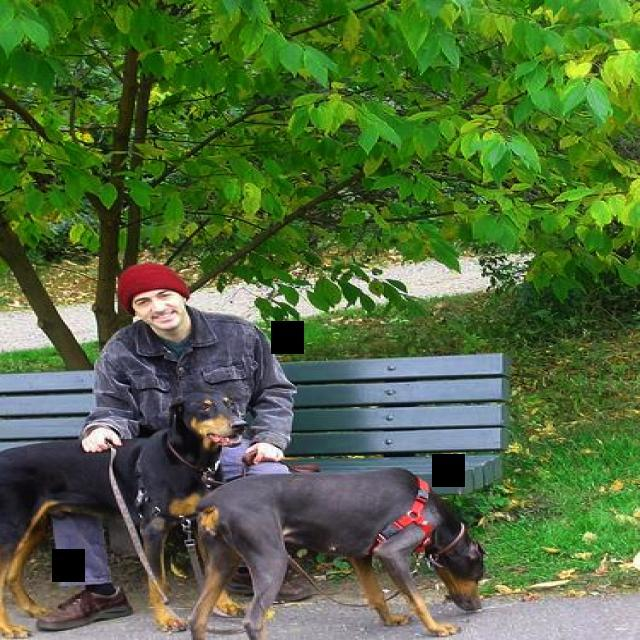adult_dog: (0, 396, 249, 638), (190, 467, 492, 640)
non-dog: (36, 262, 302, 632)
